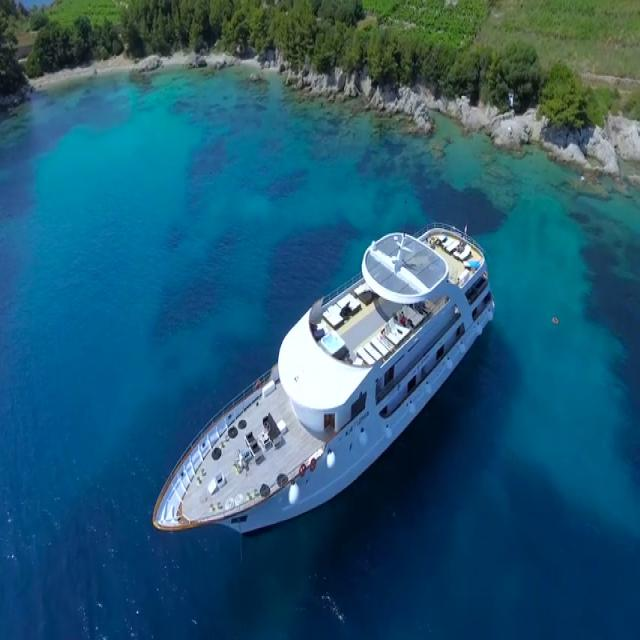passenger ship: (145, 216, 496, 554)
